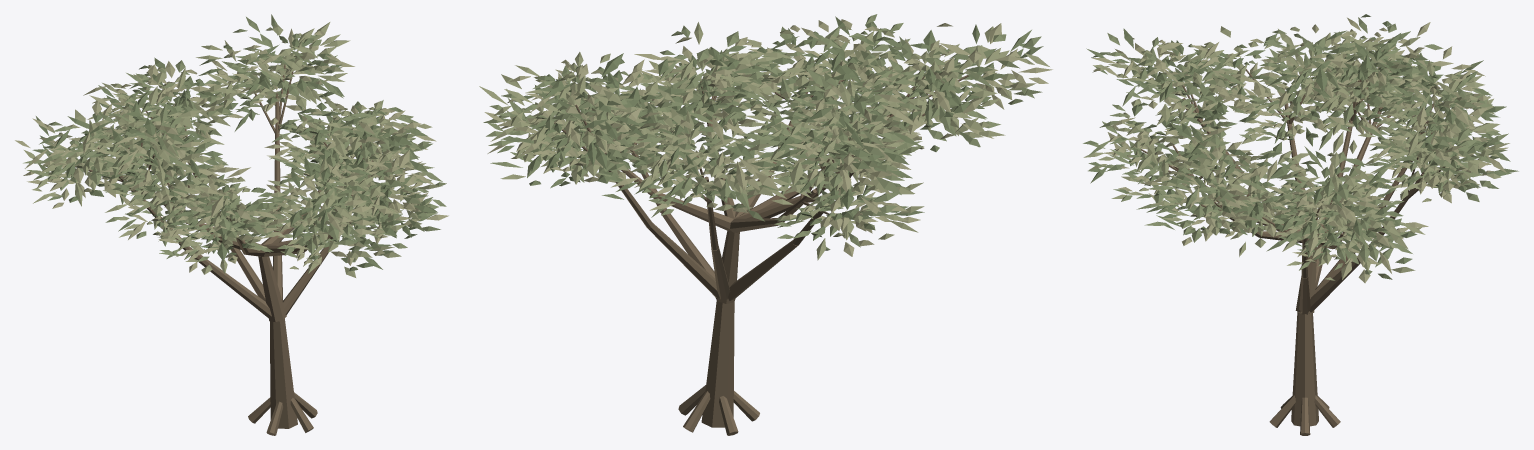
The model's file is DesertMesquite.glb.
3 views of the same model, side by side, from view 1: azimuth 30°, elevation 25°; view 2: azimuth 150°, elevation 25°; view 3: azimuth 270°, elevation 25° (orthographic). The views are drawn at different scales.
Visible parts, largest first — view 1: DesertMesquite; view 2: DesertMesquite; view 3: DesertMesquite.
Part boxes in pixels (x1=…): DesertMesquite: x1=15, y1=14, x2=448, y2=435; DesertMesquite: x1=479, y1=14, x2=1052, y2=435; DesertMesquite: x1=1083, y1=14, x2=1518, y2=435.
Size of the model in its own units: 4.59 by 3.74 by 4.57.
